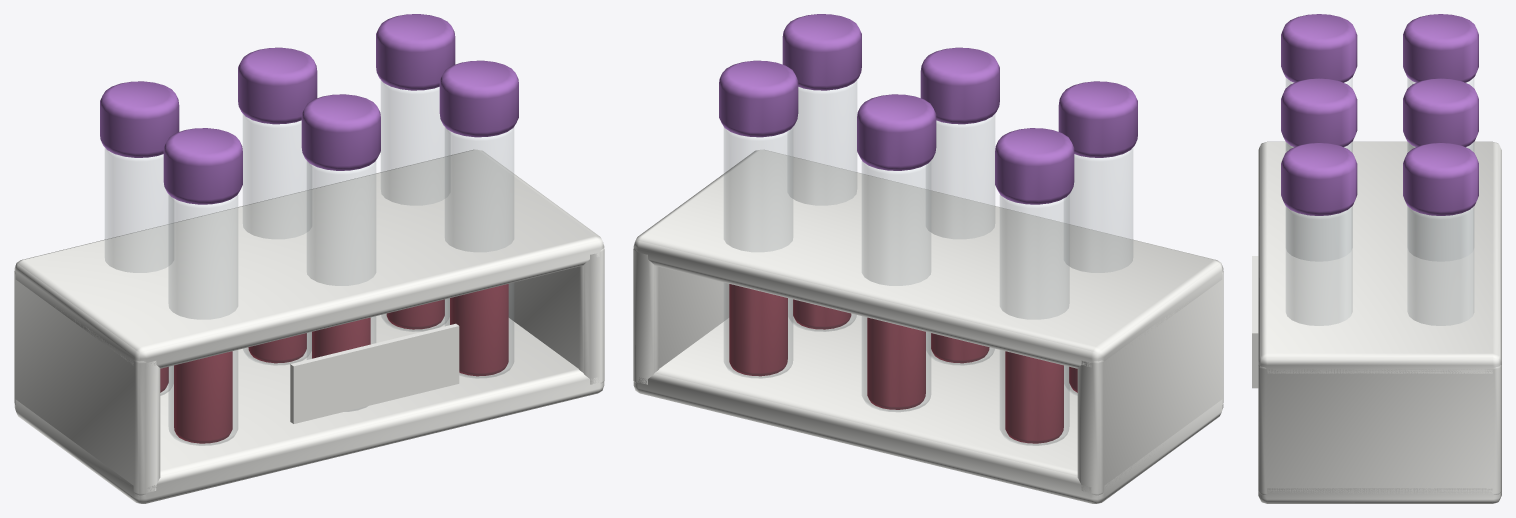
The model's file is gradilla_hematies.glb.
3 renders of one model, left to right at view 1: azimuth 30°, elevation 25°; view 2: azimuth 150°, elevation 25°; view 3: azimuth 270°, elevation 25°, orthographic. The views are drawn at different scales.
Parts seen in each view (by area): view 1: tabla, base, lado-1, tubo00, tubo20, etiqueta, tubo10, tubo21, tubo11, lado1, tubo01, tapon20 (+10 smaller); view 2: tabla, base, lado-1, tubo01, tubo11, tubo21, tubo20, tubo10, lado1, tubo00, tapon21, tapon11 (+9 smaller); view 3: tabla, lado1, tubo20, tubo21, tapon20, tapon21, tapon00, tapon10, tapon01, tapon11, base, tubo11 (+2 smaller).
Part boxes in pixels (left/top/right/bottom): tabla: left=14, top=149, right=604, bottom=368; base: left=14, top=298, right=604, bottom=503; lado-1: left=14, top=270, right=160, bottom=495; tubo00: left=168, top=194, right=237, bottom=445; tubo20: left=445, top=127, right=513, bottom=378; etiqueta: left=290, top=323, right=459, bottom=423; tubo10: left=307, top=161, right=375, bottom=411; tubo21: left=381, top=81, right=450, bottom=331; tubo11: left=243, top=114, right=311, bottom=365; lado1: left=508, top=248, right=604, bottom=384; tubo01: left=105, top=148, right=173, bottom=395; tapon20: left=439, top=60, right=518, bottom=137; tabla: left=633, top=149, right=1223, bottom=368; base: left=633, top=298, right=1223, bottom=503; lado-1: left=1077, top=270, right=1223, bottom=495; tubo01: left=1000, top=194, right=1069, bottom=445; tubo11: left=862, top=161, right=930, bottom=411; tubo21: left=724, top=127, right=792, bottom=378; tubo20: left=787, top=81, right=856, bottom=331; tubo10: left=926, top=114, right=994, bottom=365; lado1: left=633, top=248, right=729, bottom=384; tubo00: left=1064, top=148, right=1132, bottom=395; tapon21: left=719, top=60, right=798, bottom=137; tapon11: left=857, top=94, right=936, bottom=170; tabla: left=1258, top=141, right=1501, bottom=373; lado1: left=1258, top=365, right=1501, bottom=494; tubo20: left=1286, top=206, right=1352, bottom=325; tubo21: left=1407, top=206, right=1473, bottom=325; tapon20: left=1281, top=142, right=1357, bottom=215; tapon21: left=1403, top=142, right=1478, bottom=215; tapon00: left=1281, top=14, right=1357, bottom=82; tapon10: left=1281, top=78, right=1357, bottom=146; tapon01: left=1403, top=14, right=1478, bottom=82; tapon11: left=1403, top=78, right=1478, bottom=147; base: left=1258, top=488, right=1501, bottom=503; tubo11: left=1407, top=142, right=1473, bottom=261.
Size of the model in its own units: 0.34 by 0.2225 by 0.164.
